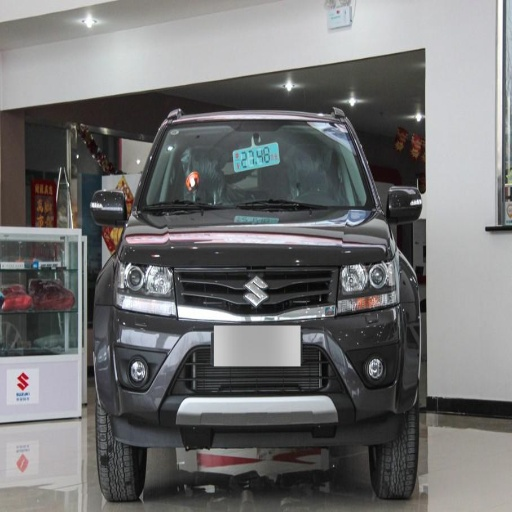front_bumper: (111, 266, 416, 445)
front_right_light: (117, 259, 173, 314)
hood: (124, 211, 393, 266)
left_mirror: (387, 187, 422, 221)
